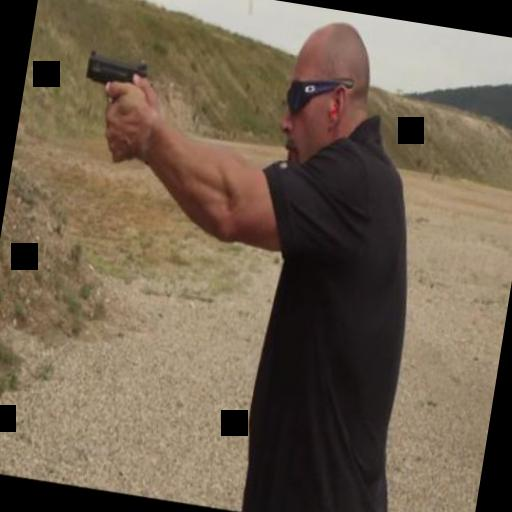Handgun: (69, 49, 153, 160)
